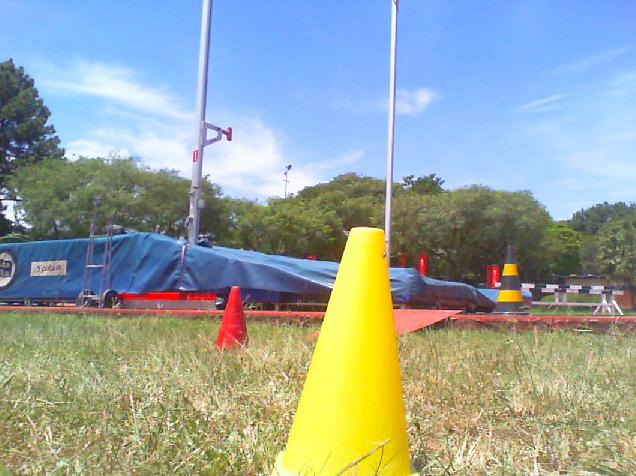0 cone: (271, 227, 418, 476), (489, 244, 528, 315), (207, 285, 250, 347)
